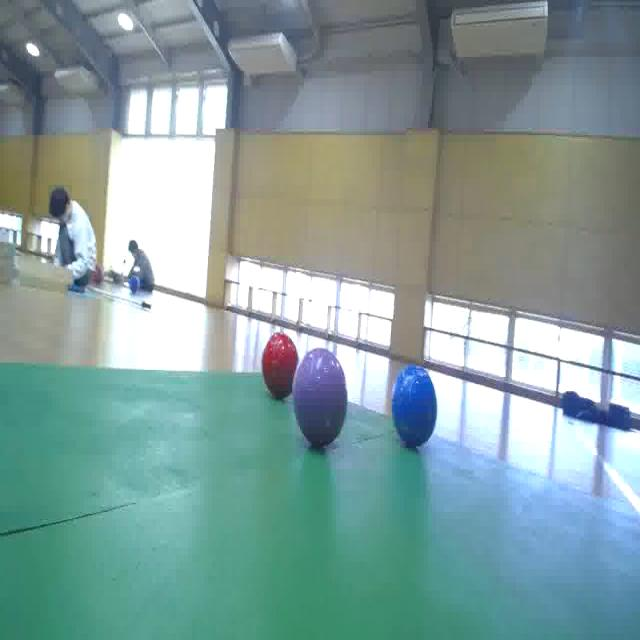blue_ball: (394, 364, 438, 446)
purple_ball: (296, 351, 348, 445)
red_ball: (262, 336, 298, 398)
